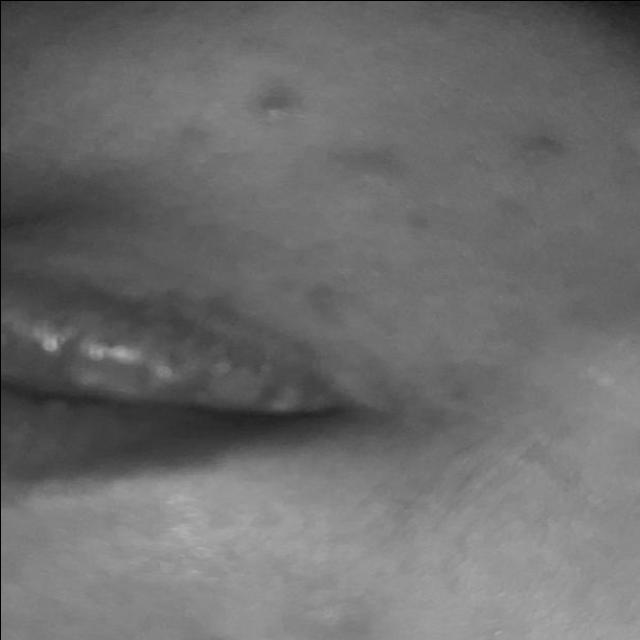papule: (259, 547, 416, 640), (314, 122, 469, 204)
pustule: (249, 69, 296, 128)
